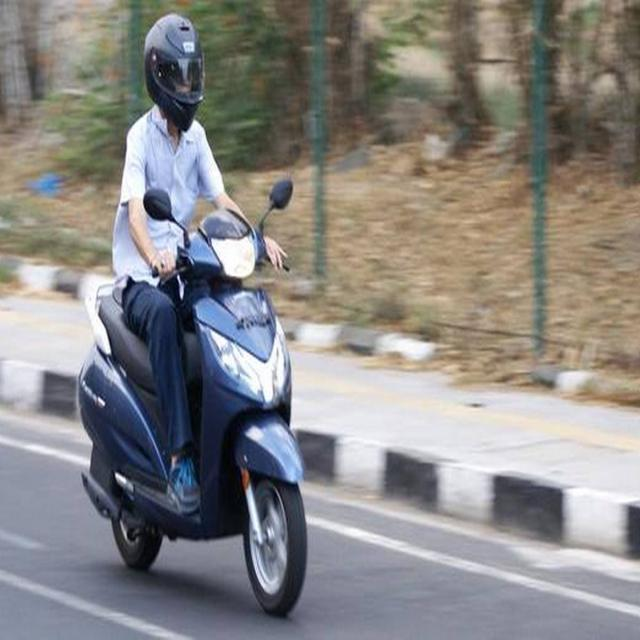helmet: (139, 16, 205, 119)
